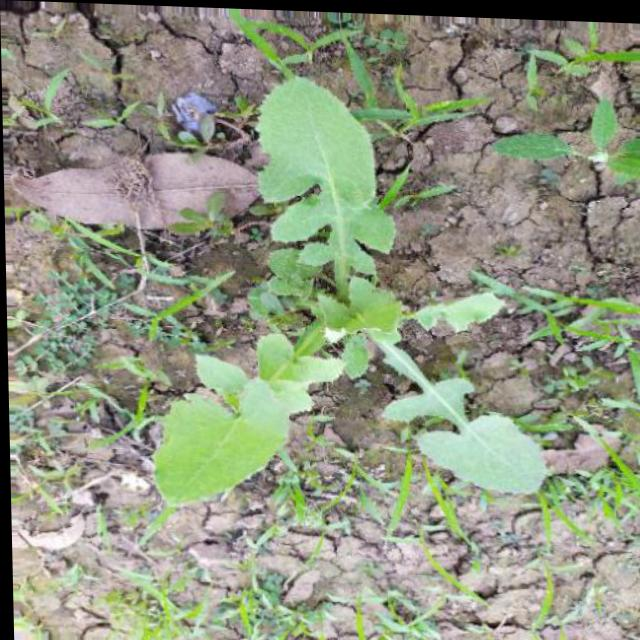weed: (135, 83, 559, 511), (100, 549, 441, 640), (19, 251, 173, 410)
